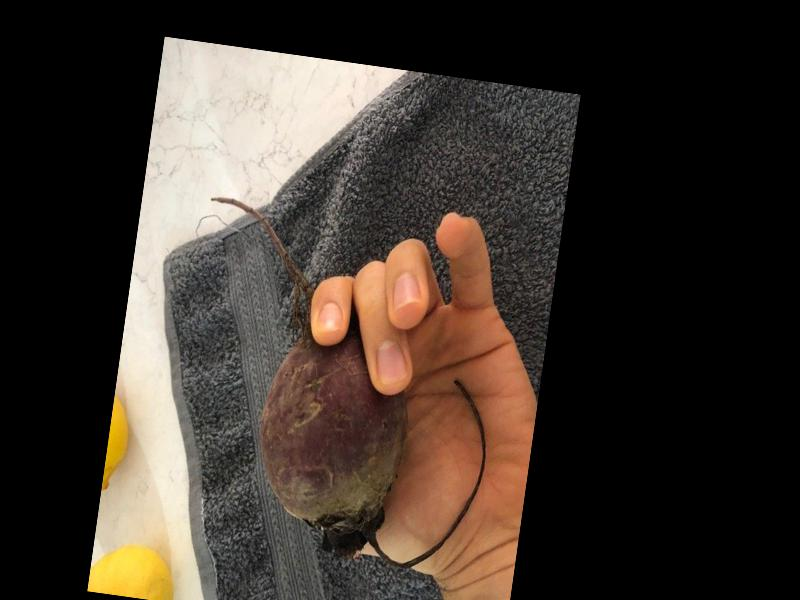Beet: (164, 196, 516, 574)
